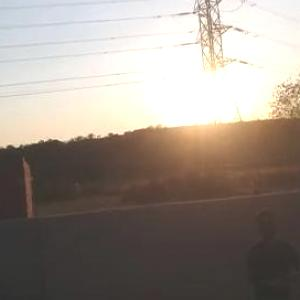follow: (240, 197, 300, 299)
